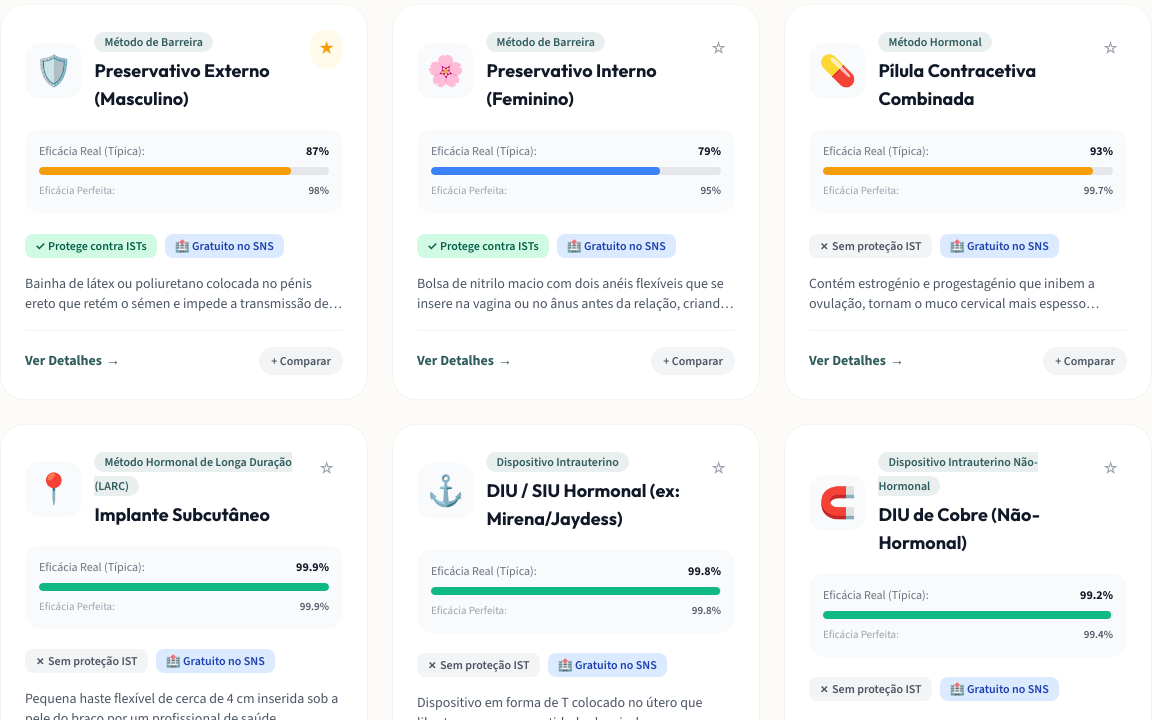
Test case: ContraceptiveComparator › opens detail modal when 'Ver Detalhes' clicked on first method
(page scrolled)
Step 1. Click the text "Ver Detalhes" below "98" → click(64, 360), box [25,350,102,370]
(page scrolled)
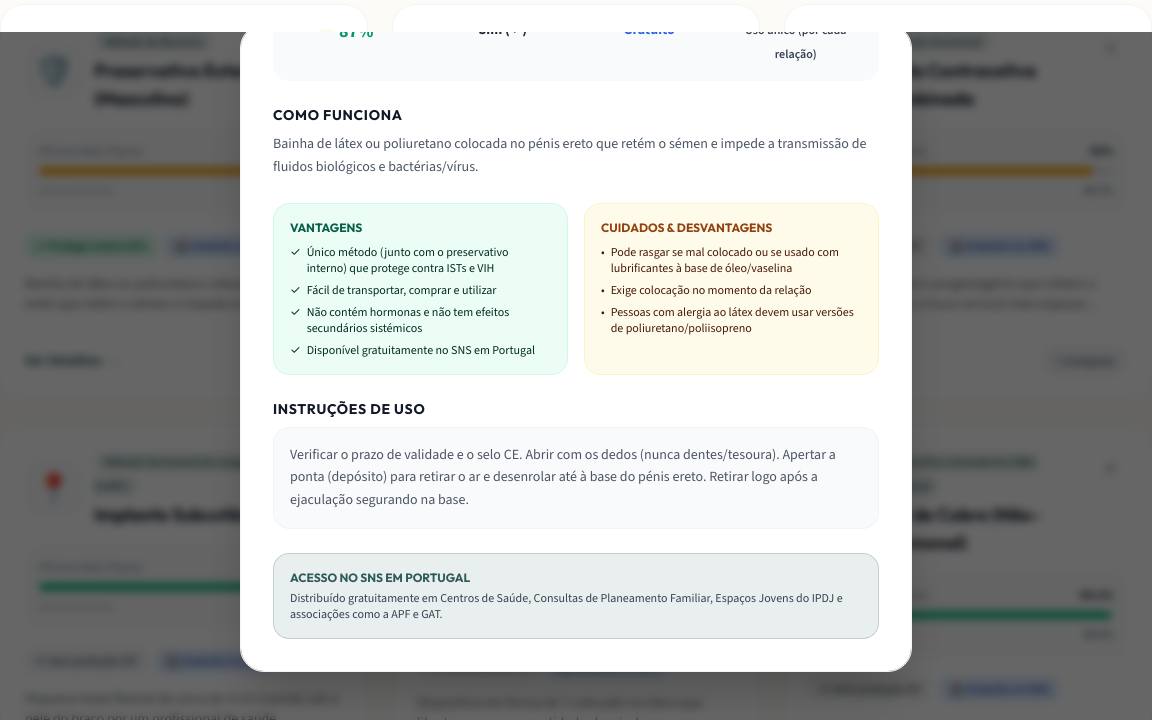
Check: the dialog is shown
Check: the heading "Como Funciona" is shown, box [273,106,403,124]
Check: the heading "Vantagens" is shown, box [290,220,362,234]
